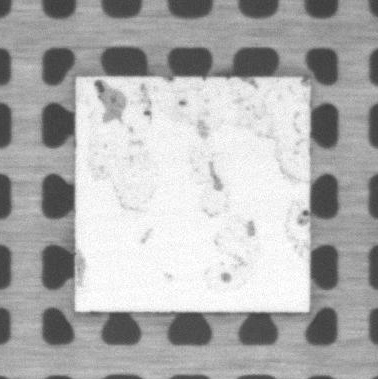DIE_INK: (78, 79, 307, 281)
